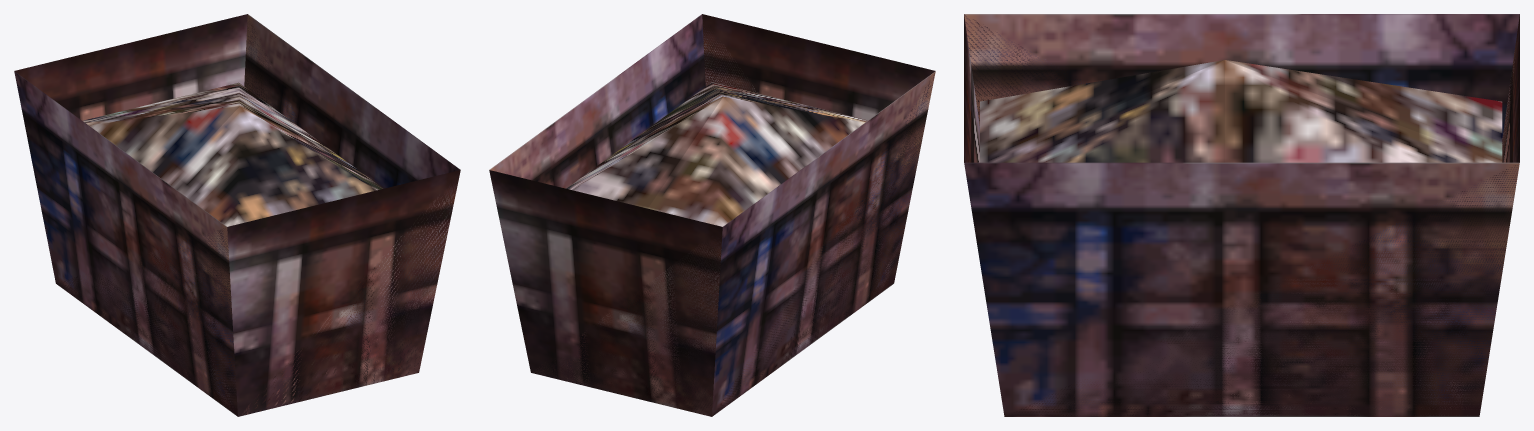
The model's file is Environment - Prop - N Dump - PMNDump.glb.
3 renders of one model, left to right at view 1: azimuth 30°, elevation 25°; view 2: azimuth 150°, elevation 25°; view 3: azimuth 270°, elevation 25°, orthographic. The views are drawn at different scales.
Visible parts, largest first — view 1: PMNDUMP; view 2: PMNDUMP; view 3: PMNDUMP.
Part boxes in pixels (bbox=[...]): PMNDUMP: bbox=[14, 14, 460, 416]; PMNDUMP: bbox=[489, 14, 935, 416]; PMNDUMP: bbox=[964, 14, 1519, 416].
Size of the model in its own units: 10.63 by 9.9 by 16.8.
1 material, 1 textured.
